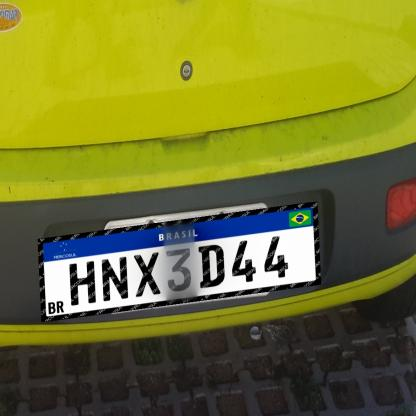PlacaM: (38, 202, 321, 322)
